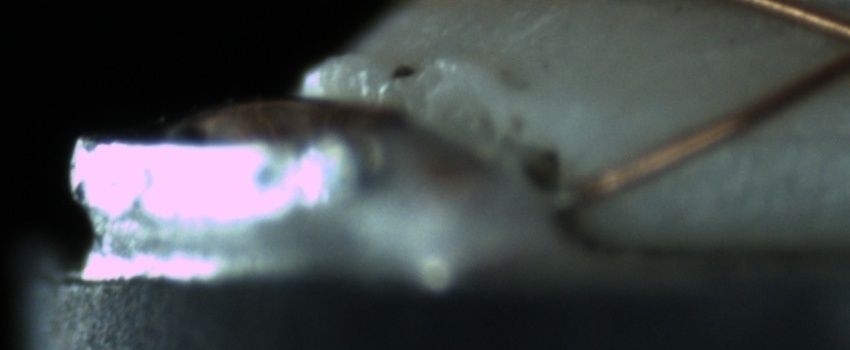CL: (809, 8, 850, 85)
DL: (732, 109, 849, 167)
